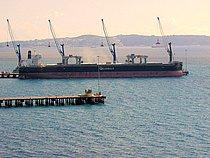Ship: (12, 49, 193, 81)
